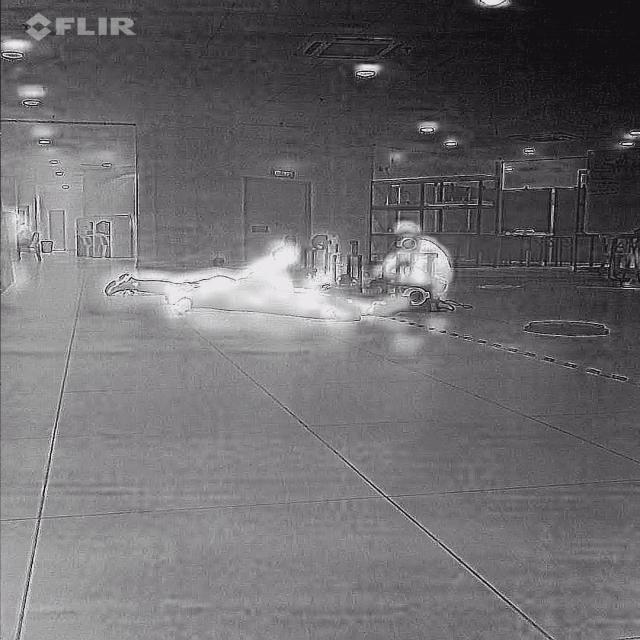Victim: (158, 266, 419, 326), (103, 243, 303, 301), (376, 215, 455, 302)
